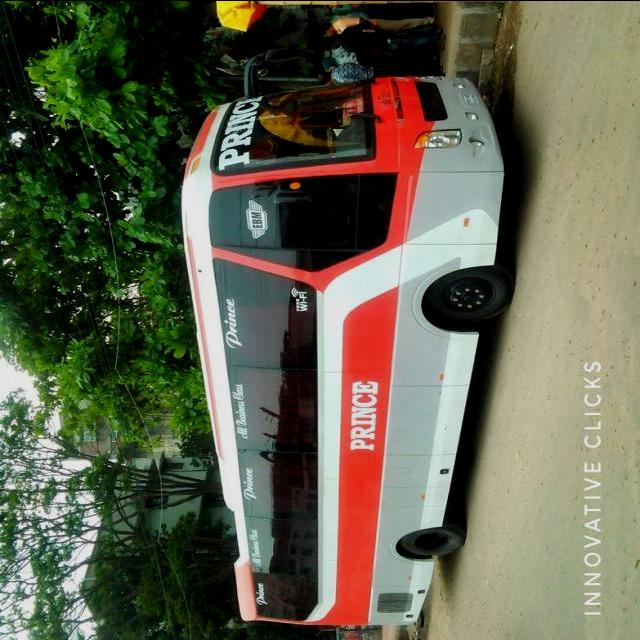bus: (180, 45, 515, 627)
